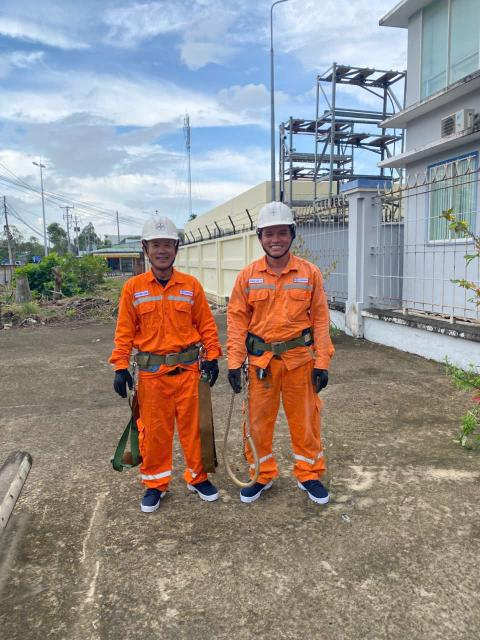gloves: (300, 361, 345, 406), (104, 357, 136, 402), (223, 357, 249, 399), (200, 353, 223, 389)
harness: (122, 340, 216, 369), (242, 326, 337, 354)
helmet: (238, 195, 319, 238), (126, 213, 191, 247)
shoes: (291, 467, 346, 506), (178, 466, 227, 507), (133, 479, 177, 517), (237, 469, 282, 501)
